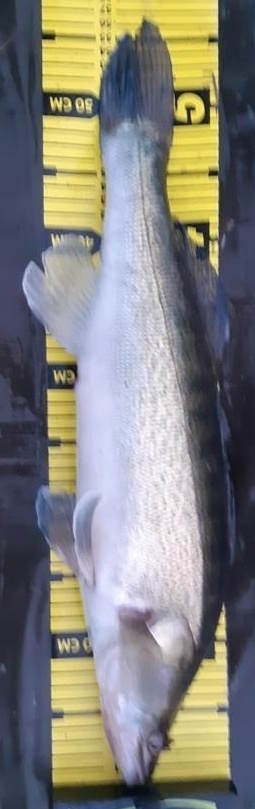Sander lucioperca: (20, 20, 235, 789)
